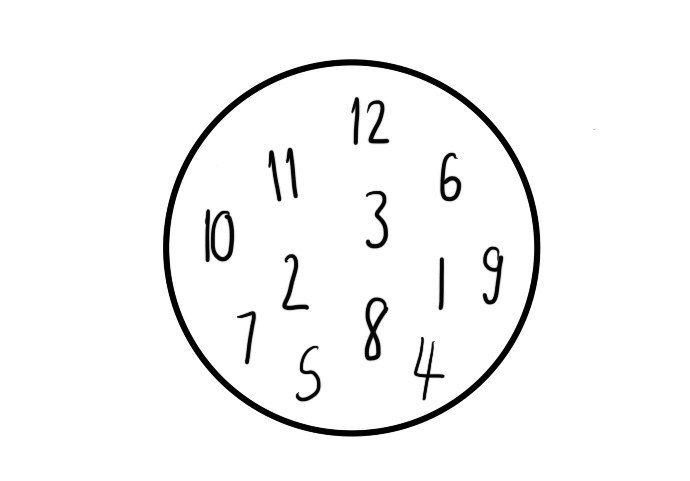eight: (361, 294, 388, 366)
eleven: (264, 145, 300, 201)
five: (295, 340, 323, 403)
four: (413, 334, 443, 401)
nine: (481, 243, 504, 306)
one: (433, 253, 449, 310)
seven: (234, 308, 259, 365)
six: (438, 149, 463, 205)
ten: (201, 207, 235, 264)
three: (363, 188, 389, 252)
twelve: (349, 95, 389, 147)
two: (280, 251, 309, 313)
